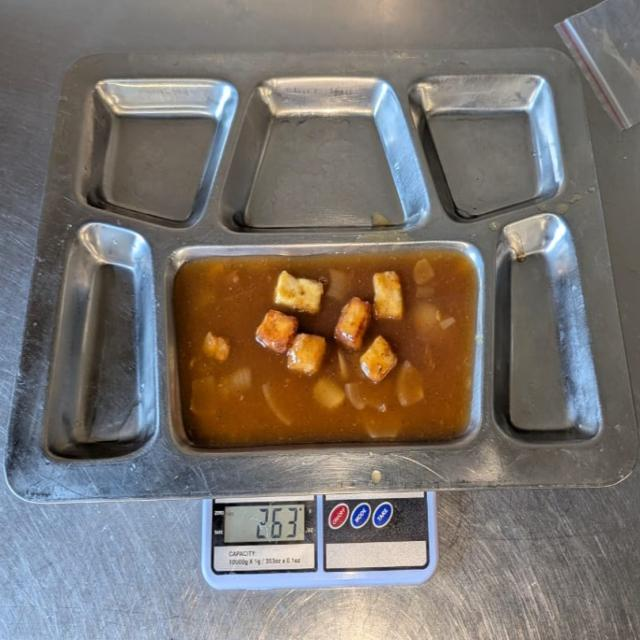Paneer Curry: (185, 256, 472, 446)
